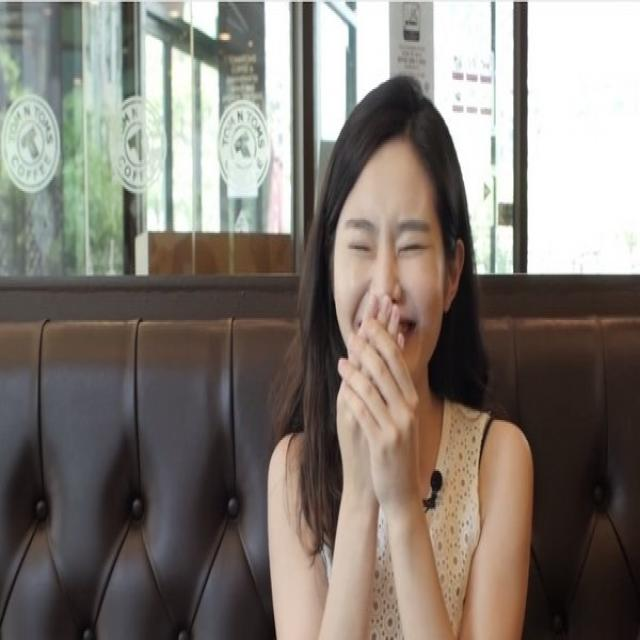nomask: (334, 160, 446, 385)
